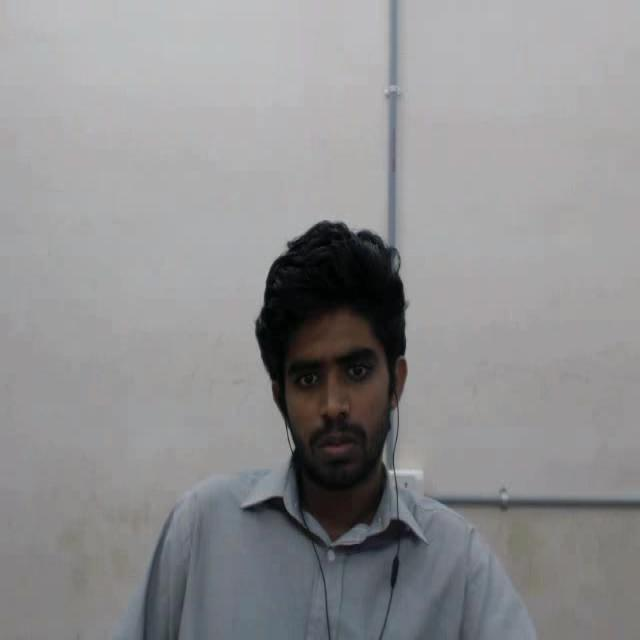Engaged: (244, 192, 444, 519)
